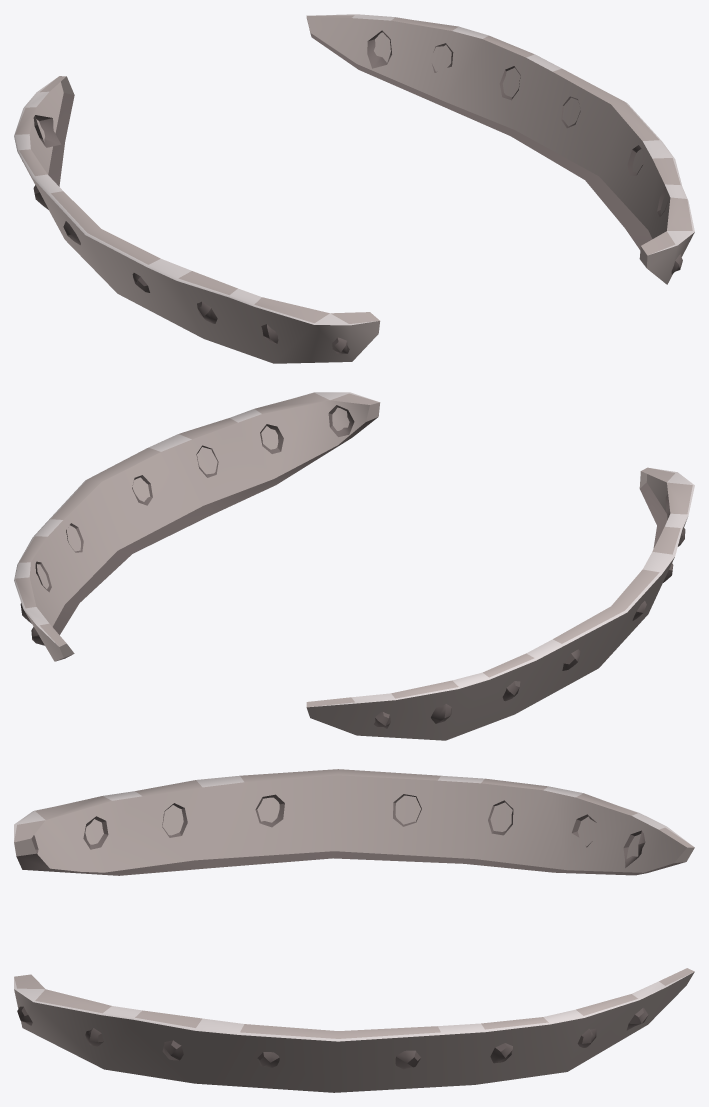
File: Armor_Canoe.fbx
3 renders of one model, top to bottom at view 1: azimuth 30°, elevation 25°; view 2: azimuth 150°, elevation 25°; view 3: azimuth 270°, elevation 25°, orthographic. The views are drawn at different scales.
Parts seen in each view (by area): view 1: Armor_Color_19; view 2: Armor_Color_19; view 3: Armor_Color_19.
Part boxes in pixels (x1,y1,x2,y2): Armor_Color_19: [14, 14, 694, 363]; Armor_Color_19: [14, 392, 694, 740]; Armor_Color_19: [14, 769, 694, 1092].
Bounding box in the file's own units: 16.09 × 1.9 × 17.02.
1 material, 1 textured.
